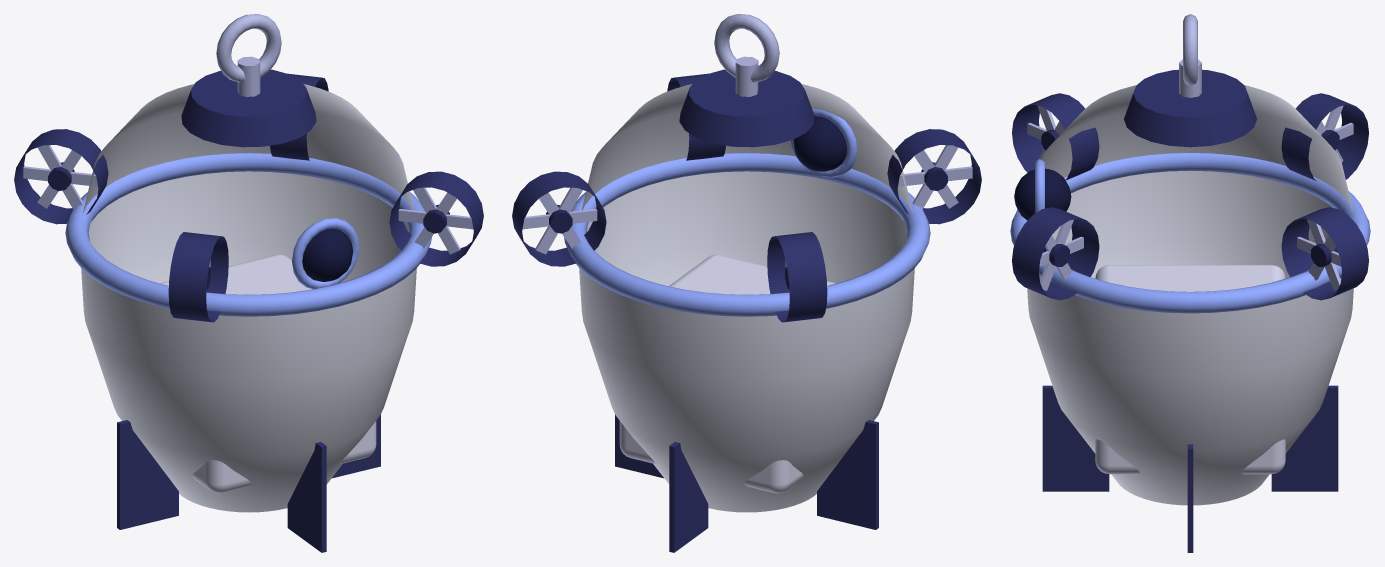
Rendered from droidPod.glb.
3 renders of one model, left to right at view 1: azimuth 30°, elevation 25°; view 2: azimuth 150°, elevation 25°; view 3: azimuth 270°, elevation 25°, orthographic.
Parts seen in each view (by area): view 1: doorL, doorR, ring, body, neck, fin2, fan3, box, hook, fan2, fin3, fan0 (+6 smaller); view 2: doorL, doorR, ring, body, neck, box, fin2, fan2, hook, fan3, fin1, fan1 (+6 smaller); view 3: doorR, doorL, ring, body, neck, box, fin1, fin3, fan0, fan1, fan2, fan3 (+8 smaller).
Part boxes in pixels (x1,y1,x2,y2): doorL: [81, 181, 333, 512]; doorR: [164, 171, 416, 484]; ring: [65, 153, 431, 316]; body: [83, 84, 414, 213]; neck: [181, 69, 316, 147]; fin2: [117, 420, 178, 529]; fan3: [168, 232, 228, 322]; box: [160, 254, 376, 493]; hook: [216, 14, 281, 96]; fan2: [14, 129, 108, 224]; fin3: [287, 442, 326, 552]; fan0: [389, 171, 483, 266]; doorL: [662, 181, 914, 512]; doorR: [579, 171, 831, 484]; ring: [564, 153, 930, 316]; body: [581, 84, 912, 213]; neck: [679, 69, 814, 147]; box: [619, 254, 835, 493]; fin2: [817, 420, 878, 529]; fan2: [767, 232, 827, 322]; hook: [714, 14, 779, 96]; fan3: [887, 129, 981, 224]; fin1: [669, 442, 708, 552]; fan1: [512, 171, 606, 266]; doorR: [1027, 278, 1353, 505]; doorL: [1052, 170, 1332, 278]; ring: [1010, 153, 1370, 313]; body: [1041, 85, 1353, 212]; neck: [1124, 69, 1256, 147]; box: [1095, 265, 1285, 474]; fin1: [1271, 385, 1338, 491]; fin3: [1042, 385, 1109, 491]; fan0: [1012, 207, 1099, 300]; fan1: [1281, 207, 1368, 300]; fan2: [1281, 93, 1368, 180]; fan3: [1012, 93, 1099, 180].
Bounding box in the file's own units: 0.378 × 0.558 × 0.378.
